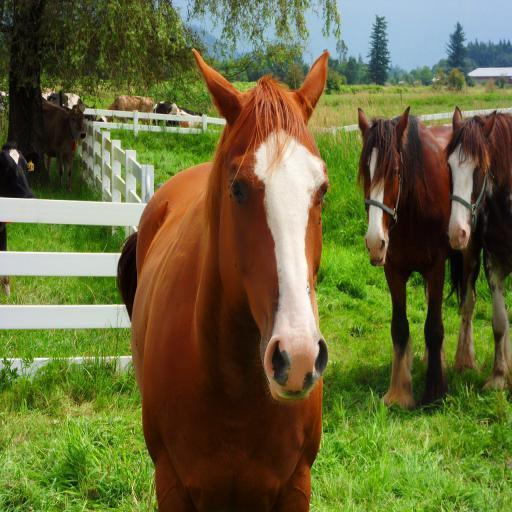horse: (116, 50, 330, 512), (354, 106, 482, 411), (442, 109, 512, 404)
